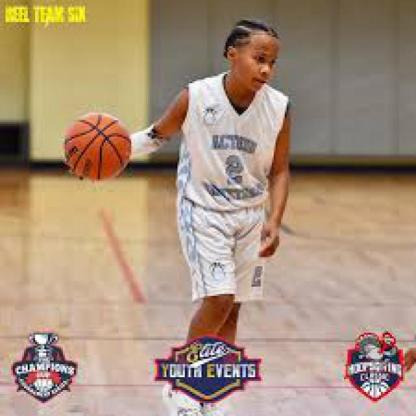basketball: (64, 112, 132, 183)
